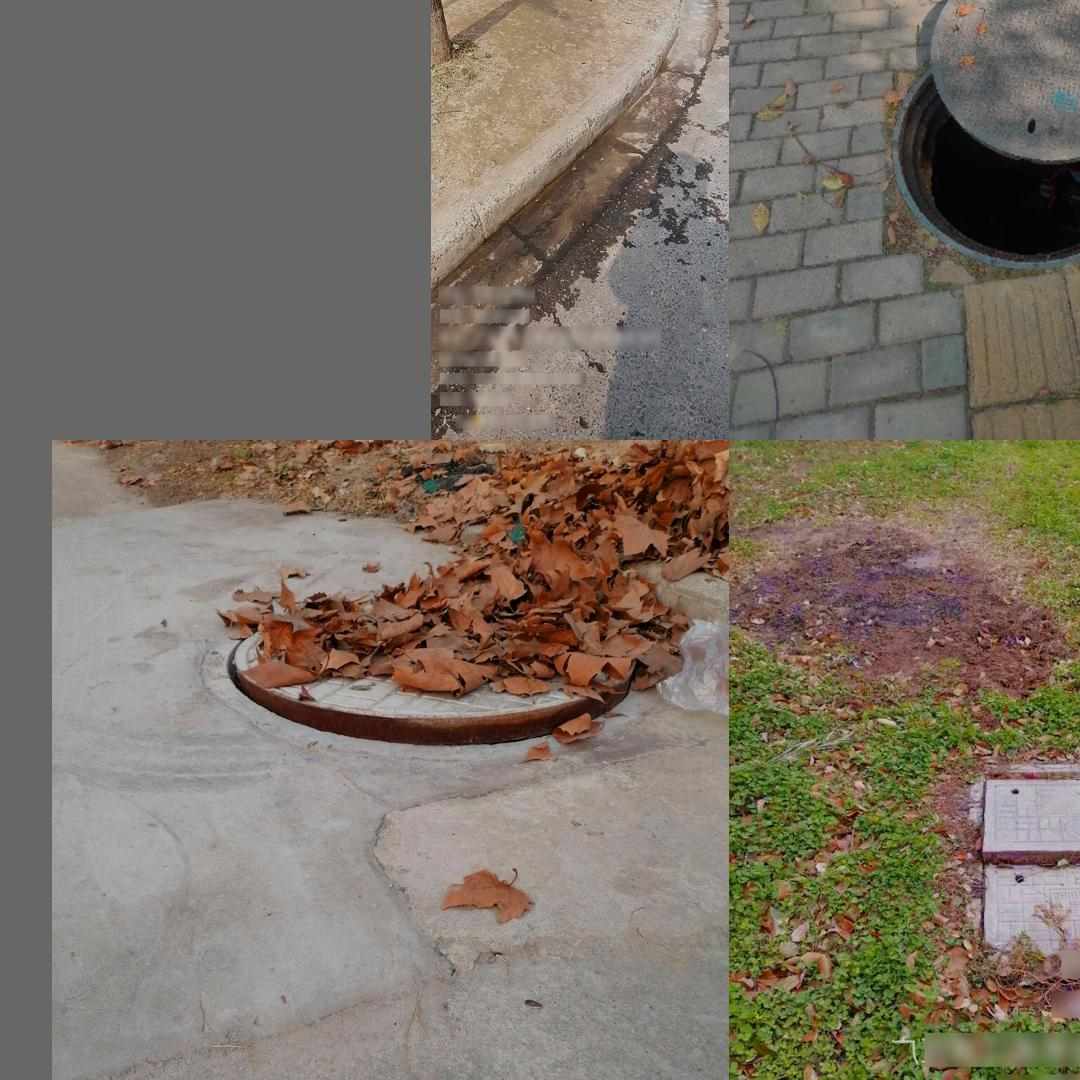uncovered: (200, 603, 637, 756), (891, 0, 1080, 268), (946, 744, 1080, 955)
